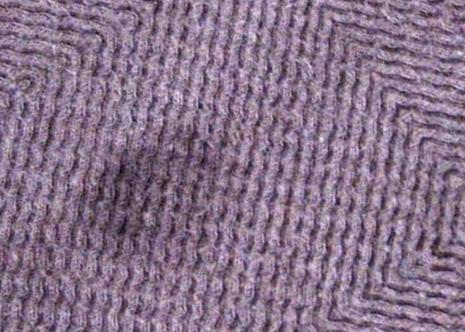stain: (88, 129, 225, 252)
